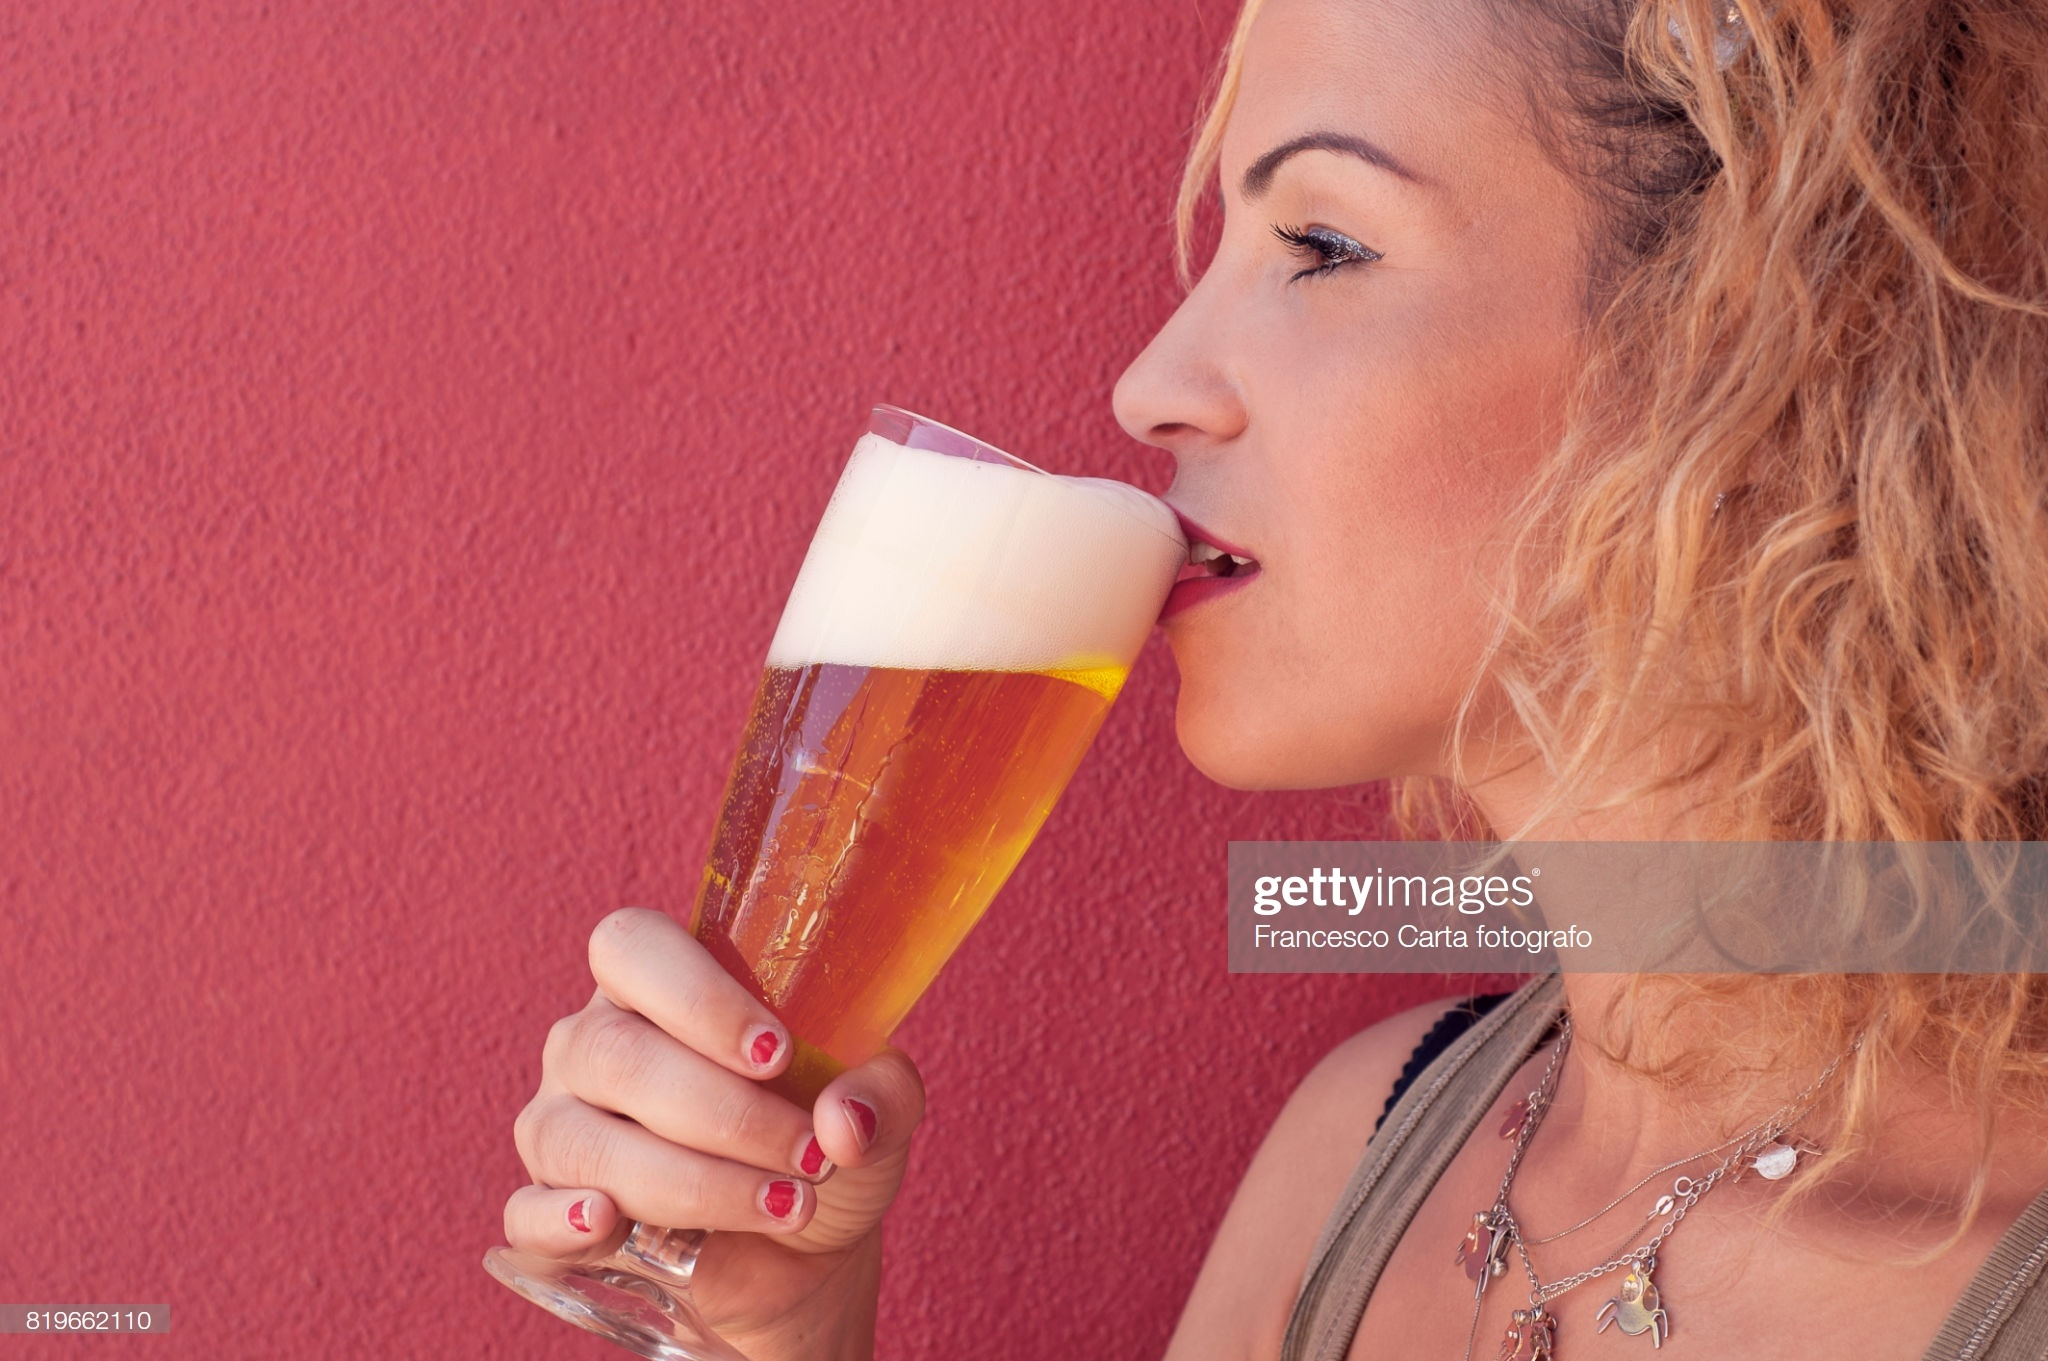glassBeer: (490, 447, 1213, 1299)
